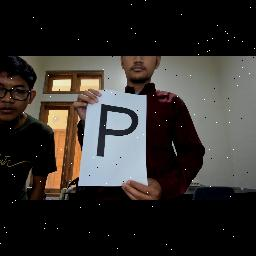p: (92, 100, 146, 168)
